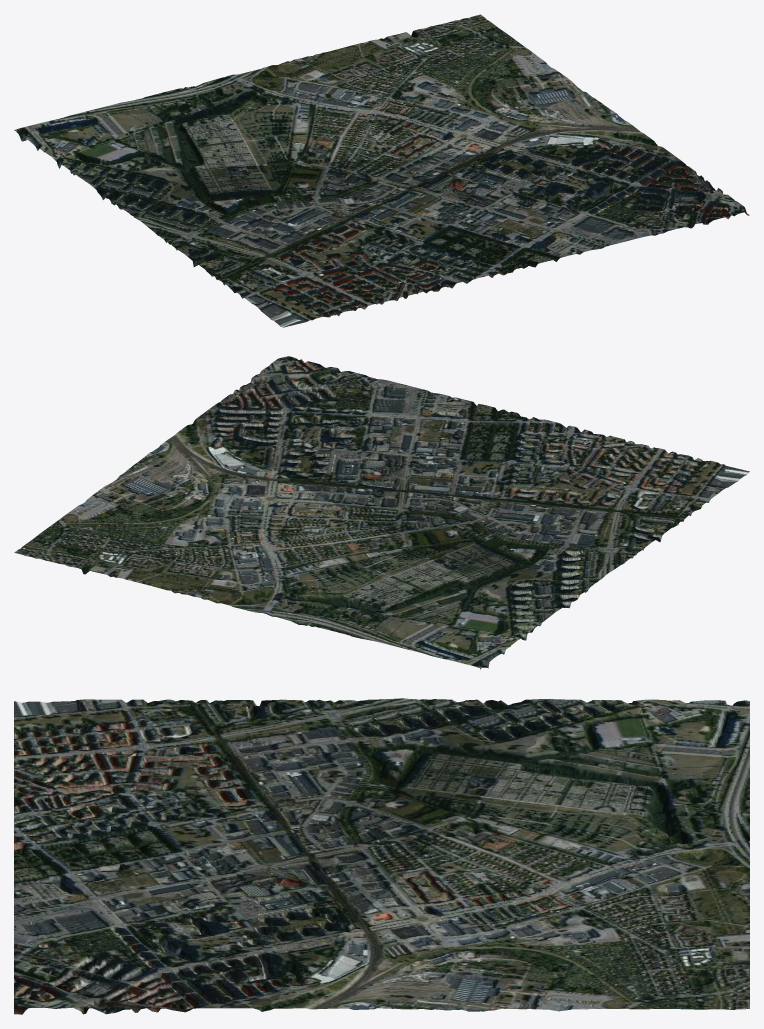
Rendered from map_10_250_426.dae.
3 renders of one model, top to bottom at view 1: azimuth 30°, elevation 25°; view 2: azimuth 150°, elevation 25°; view 3: azimuth 270°, elevation 25°, orthographic. The views are drawn at different scales.
Visible parts, largest first — view 1: Ter0; view 2: Ter0; view 3: Ter0.
Part boxes in pixels (<box>): Ter0: <box>14,14,749,327</box>; Ter0: <box>14,356,749,669</box>; Ter0: <box>14,698,749,1014</box>.
Size of the model in its own units: 2044 by 2044 by 40.
Materials: 3 (3 with a texture image).
